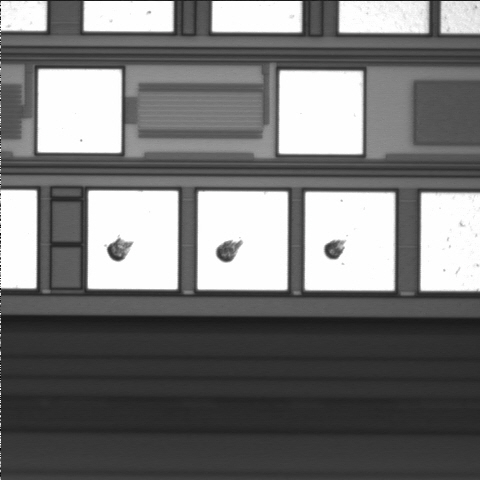pad: (198, 191, 288, 290), (88, 191, 178, 289), (305, 192, 395, 290), (38, 69, 122, 153), (279, 71, 363, 154)
